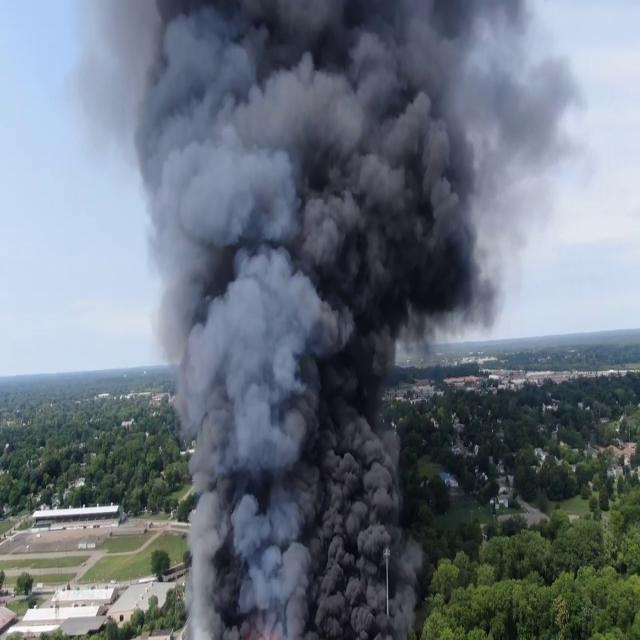Smoke: (100, 0, 514, 636)
